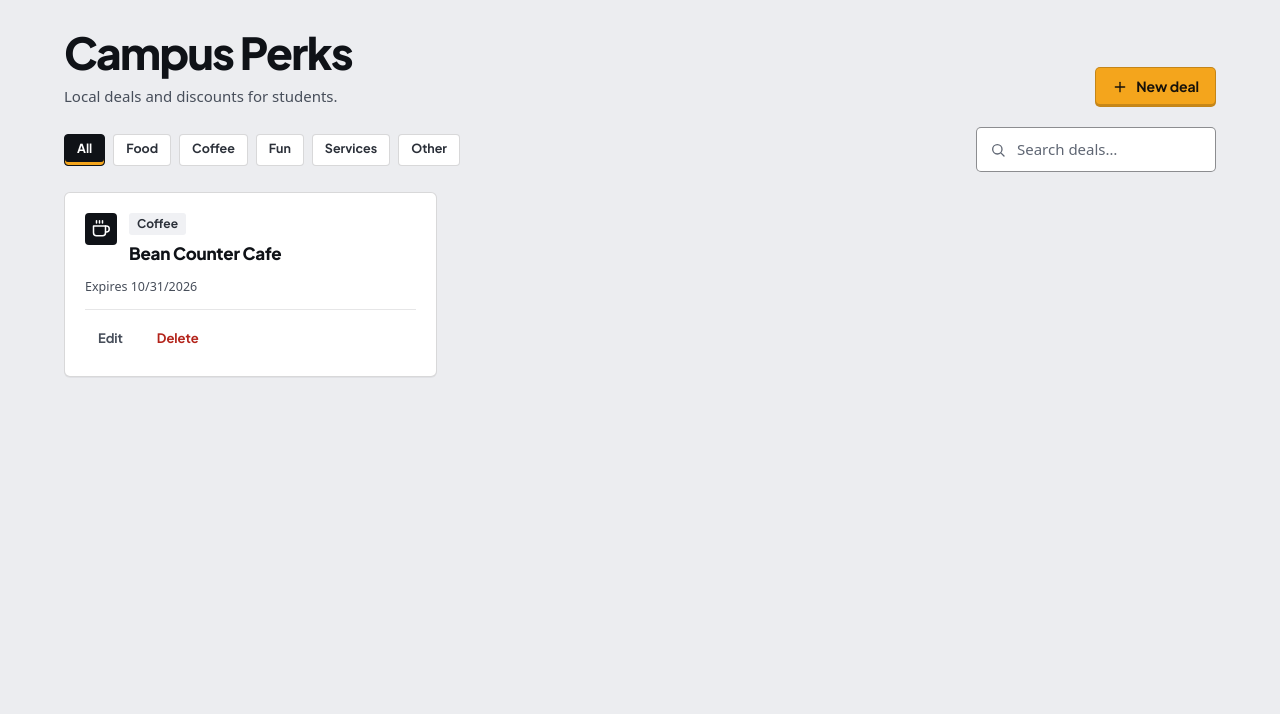
Scenario: Perks expiry › names the picked day on the card and in the edit form, with the browser in America/Indiana/Indianapolis
Click the button "Edit" at [110, 339], box [85, 322, 136, 356]
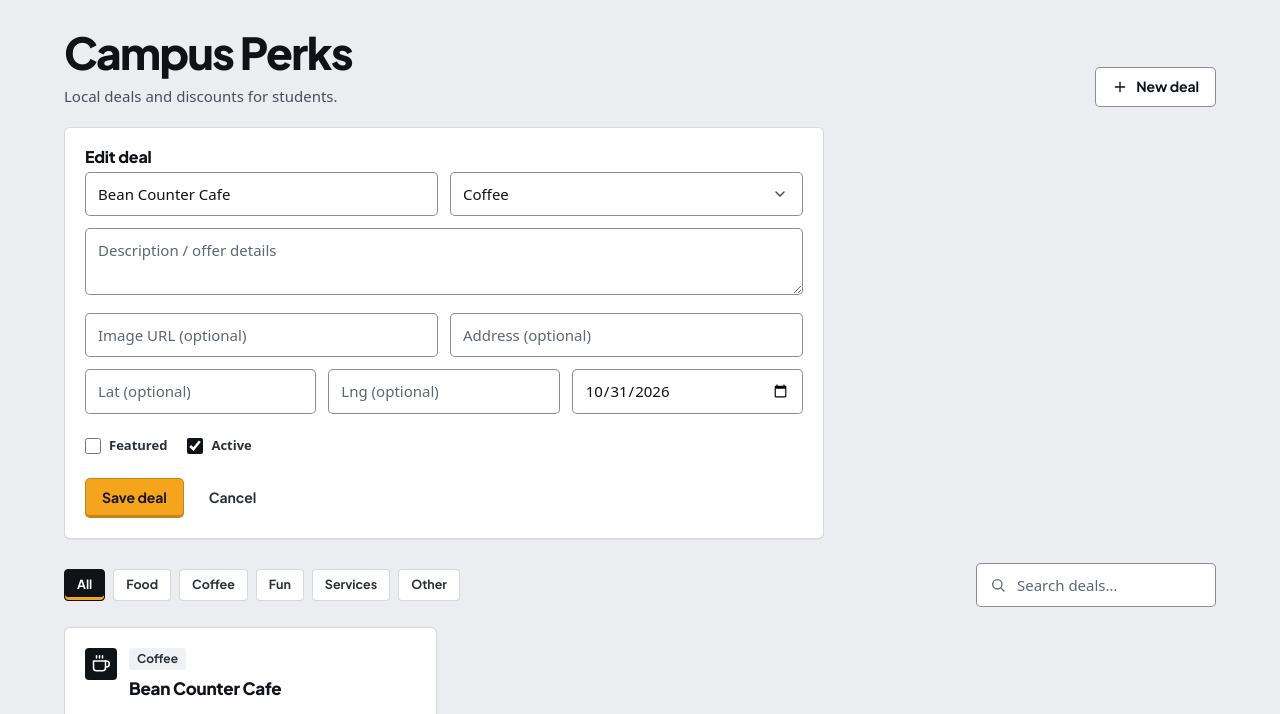
Now the date field showing "2026-10-31" is shown, box [572, 369, 803, 414]
